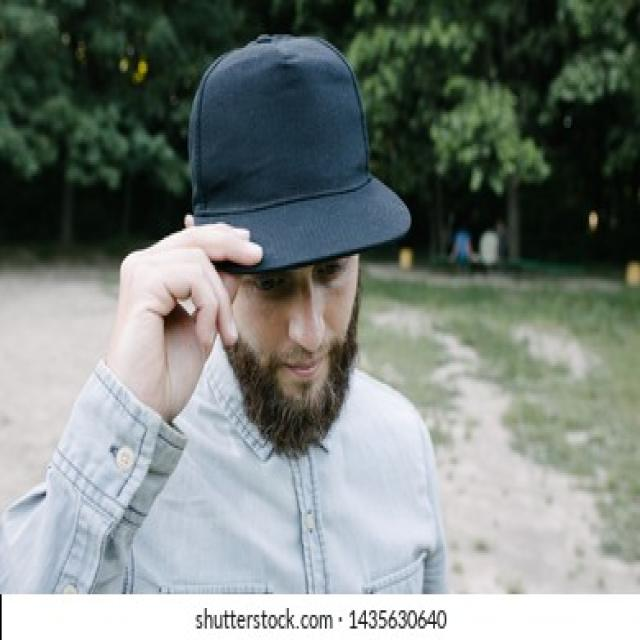3_gorra: (202, 34, 410, 271)
